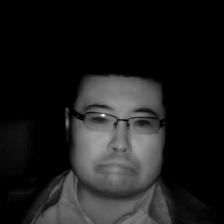sad: (51, 52, 181, 204)
